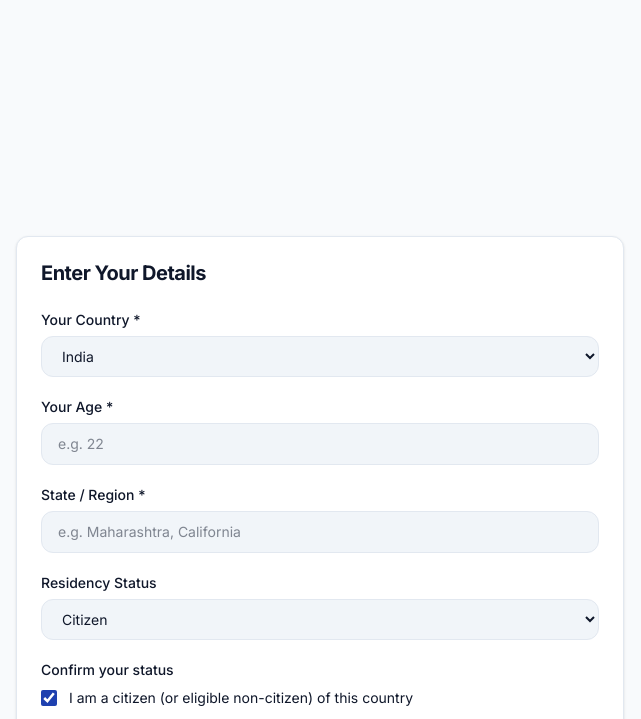
Scenario: EligibilityClient Component › shows API error message in alert role
Type "Delhi" into the field labelled "State / Region *" at (320, 532), box [41,511,599,553]
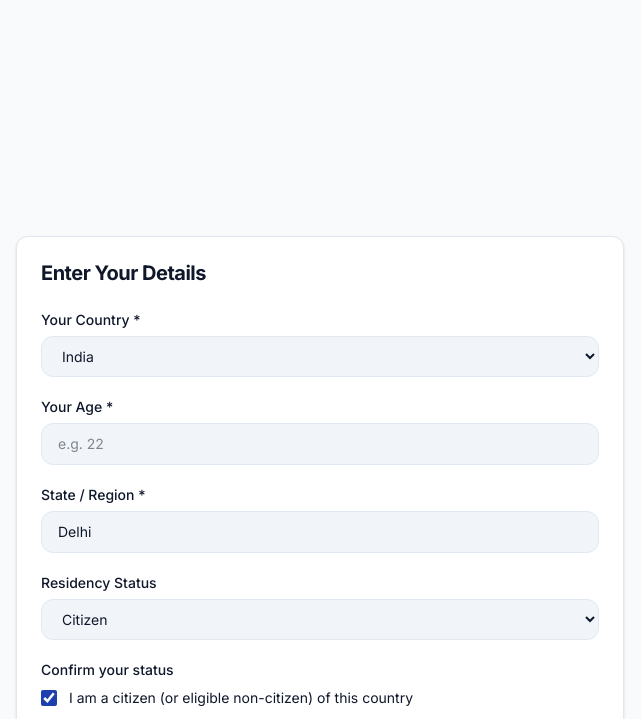
Type "22" into the number field labelled "Your Age *" at (320, 444), box [41,423,599,465]
(page scrolled)
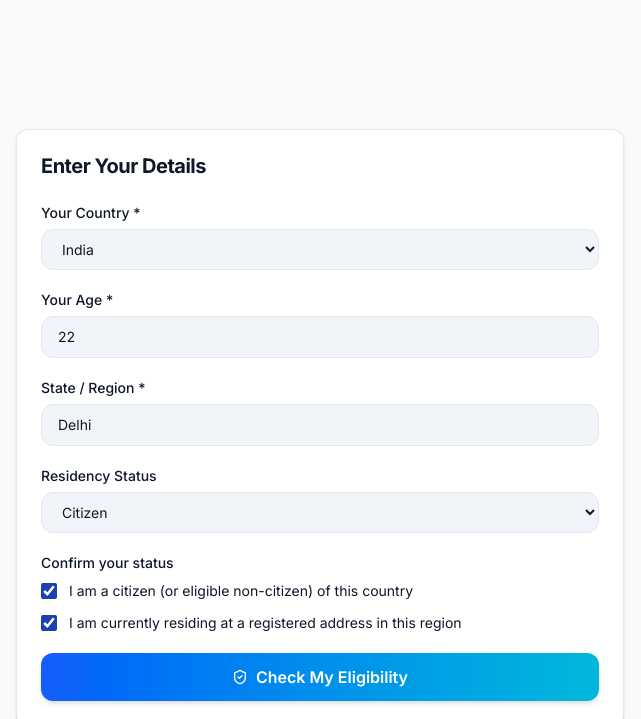
Click the button "Check My Eligibility" at (320, 677), box [41,653,599,701]
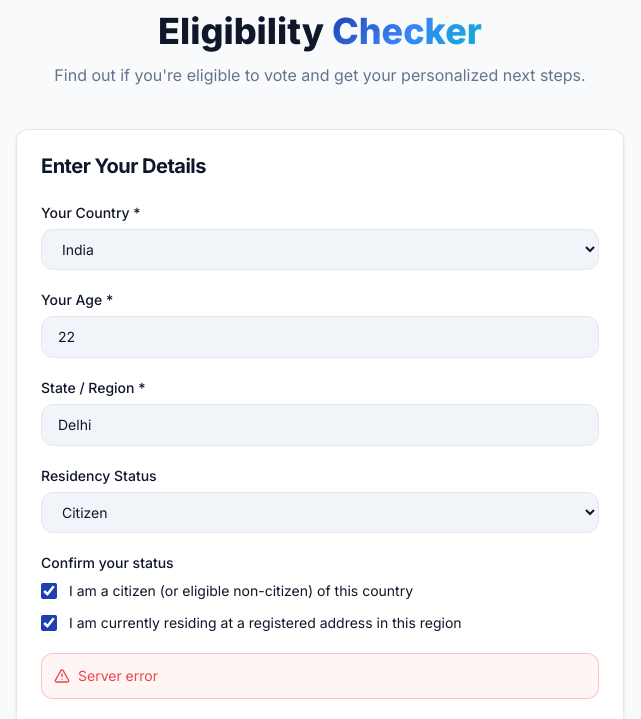
Check: the message "Server error" is shown, box [41,653,599,699]
